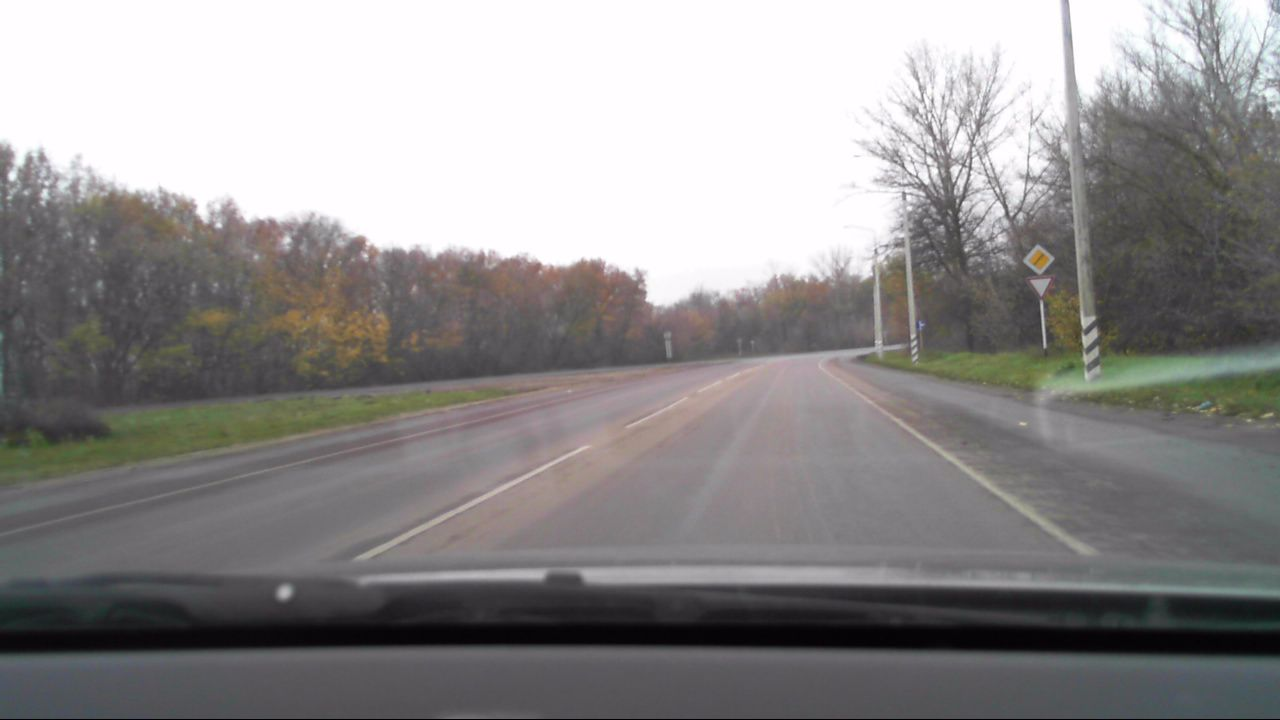main road: (1023, 244, 1056, 276)
